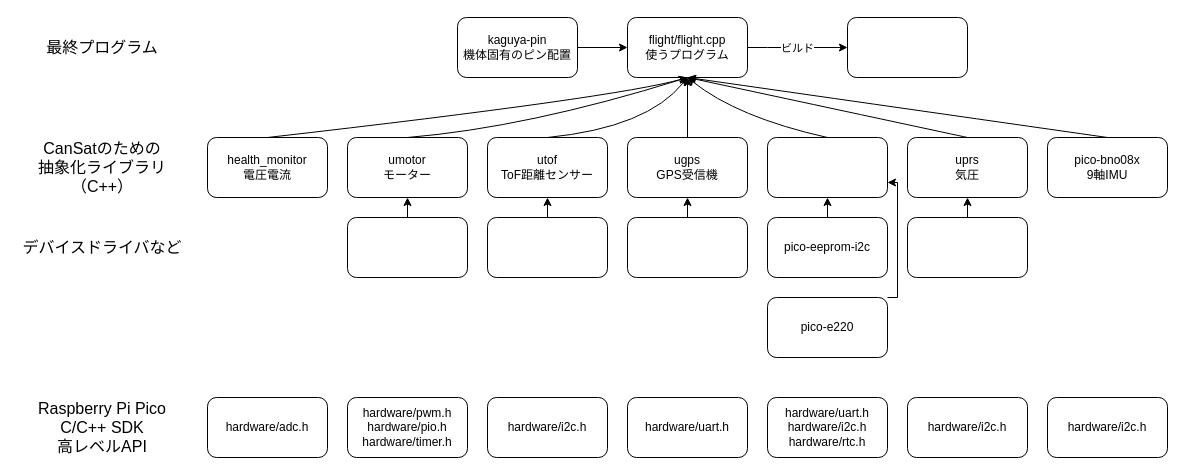
Some shapes in this 1185 by 475 pixel diagram are drawn without their labels. The centre of each missing label's shape, as x and y in pixels:
flight.uf2 書き込むファイル: pixel 907 47
motor_encoder: pixel 407 247
NMEAP: pixel 687 247
pico-spl06-001: pixel 967 247
pico-vl53l5cx: pixel 547 247
ulog ログ（EEPROM+ダウンリンク）: pixel 827 167
